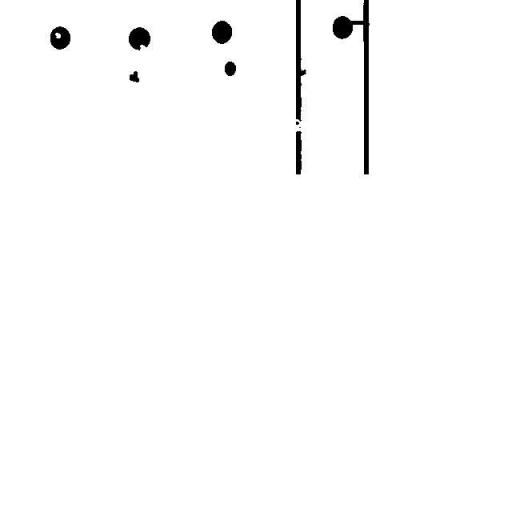copper: (122, 63, 146, 90)
mousebite: (132, 36, 154, 58)
open: (281, 111, 311, 140)
pin-hole: (47, 24, 68, 46)
short: (340, 12, 377, 34)
spur: (288, 61, 314, 83)
